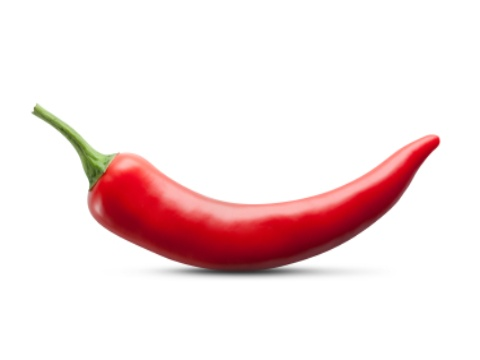Chilli: (23, 92, 446, 287)
